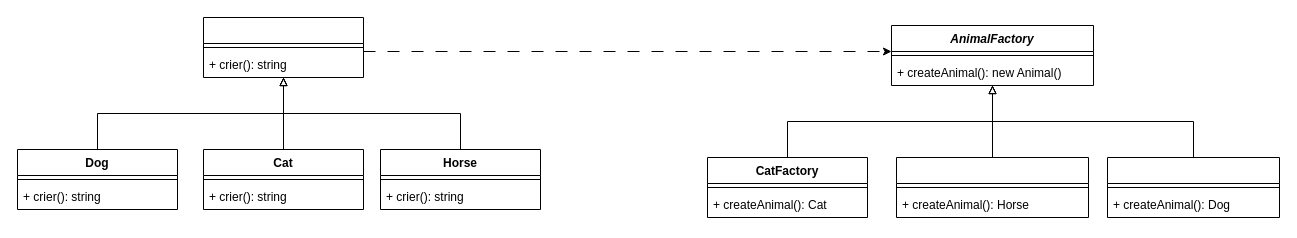
Some shapes in this 1297 by 238 pixel diagram are drawn without their labels. The box of each missing label's shape, as (x1, y1, x2, y2) in pixels:
Animal: (202, 16, 364, 78)
DogFactory: (1106, 156, 1280, 218)
HorseFactory: (896, 156, 1088, 218)
